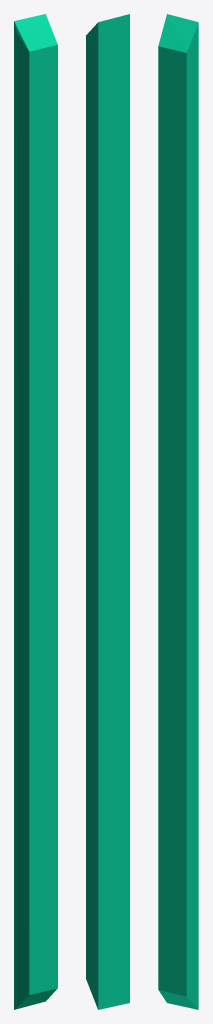
The picture shows the model from 3 angles, left to right: view 1: azimuth 30°, elevation 25°; view 2: azimuth 210°, elevation 25°; view 3: azimuth 330°, elevation 25°; orthographic projection.
Bounding box in the file's own units: 0.3853 × 11.49 × 0.2537.
